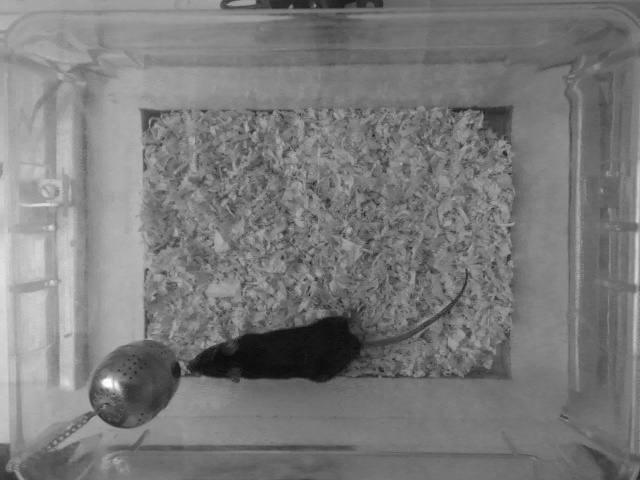mice: (186, 264, 476, 381)
